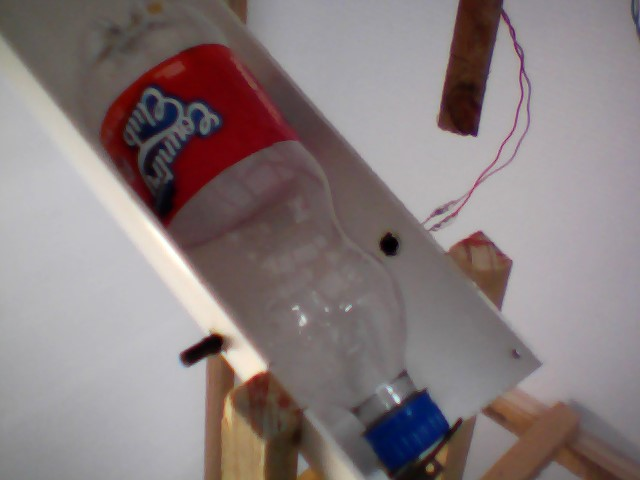plastico: (31, 1, 457, 474)
